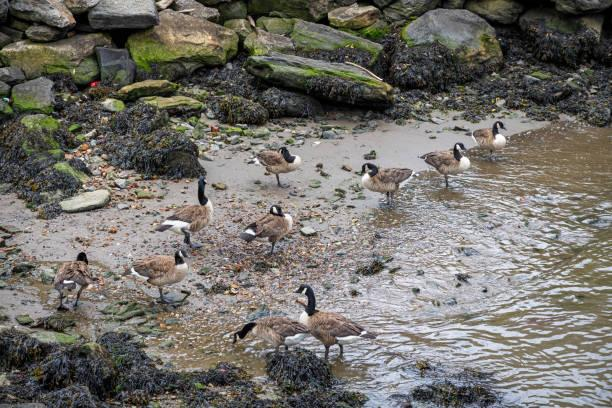Canadian-Goose: (293, 283, 376, 352), (163, 176, 216, 245), (130, 249, 190, 301), (241, 204, 293, 255), (231, 314, 306, 349), (53, 250, 96, 304), (356, 163, 414, 200), (248, 147, 303, 186), (418, 143, 472, 182), (468, 120, 508, 156)
